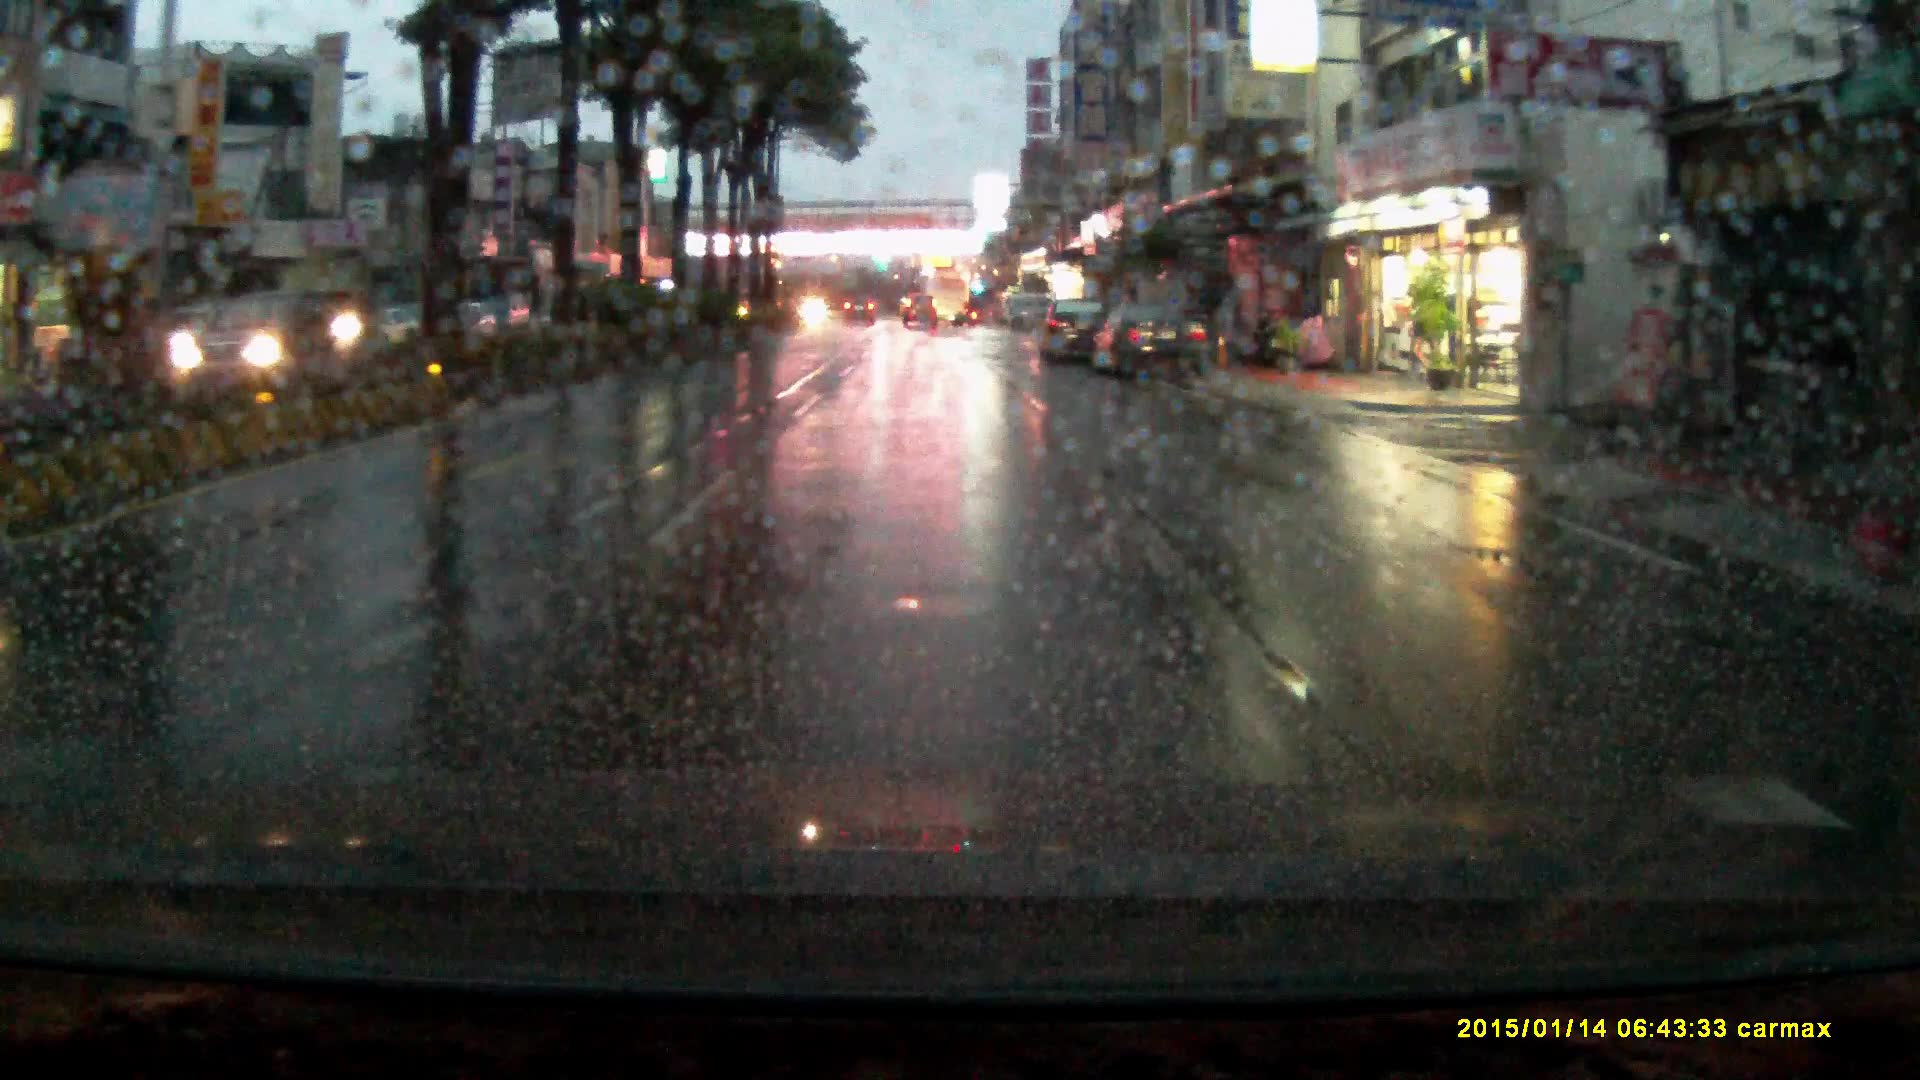rider: (315, 247, 401, 407)
vehicle: (169, 287, 353, 390), (1085, 299, 1207, 386), (154, 304, 246, 369), (1029, 297, 1105, 366), (912, 275, 970, 328), (899, 293, 935, 330), (840, 295, 874, 325)
